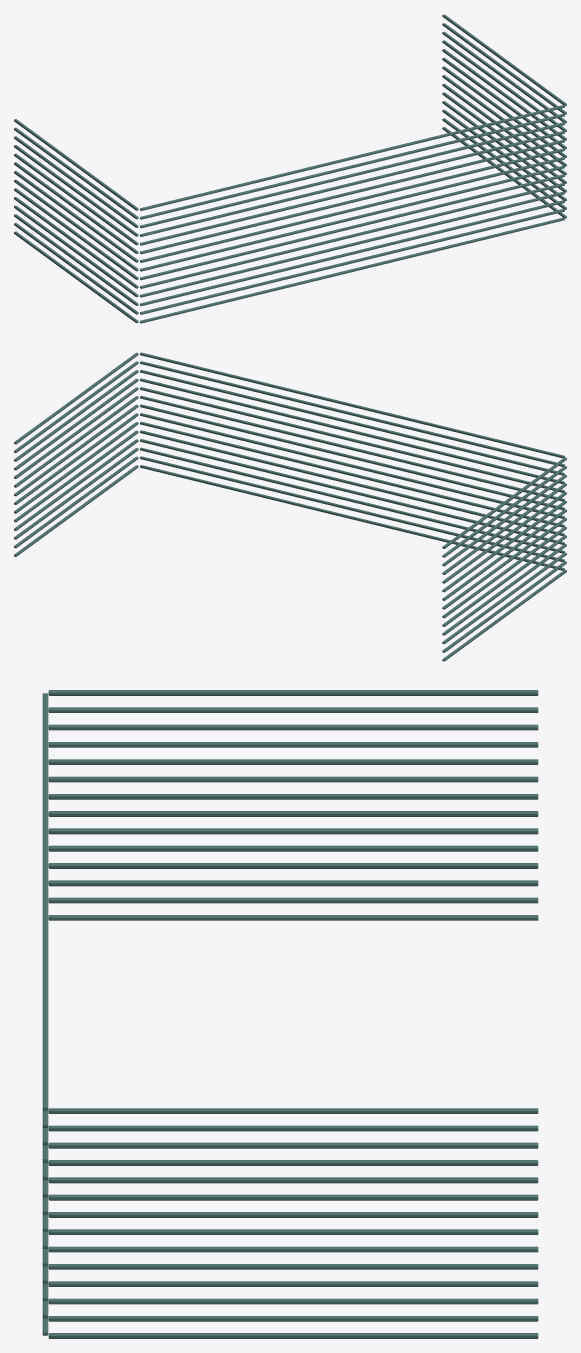
Rendered from SM_StationCladding.fbx.
3 views of the same model, one above another, from view 1: azimuth 30°, elevation 25°; view 2: azimuth 150°, elevation 25°; view 3: azimuth 270°, elevation 25° (orthographic). The views are drawn at different scales.
Parts seen in each view (by area): view 1: SM_StationCladding; view 2: SM_StationCladding; view 3: SM_StationCladding.
Part boxes in pixels (x1,y1,x2,y2): SM_StationCladding: (14, 14, 566, 323); SM_StationCladding: (14, 352, 566, 661); SM_StationCladding: (42, 690, 538, 1338).
Size of the model in its own units: 1199 by 597 by 304.
